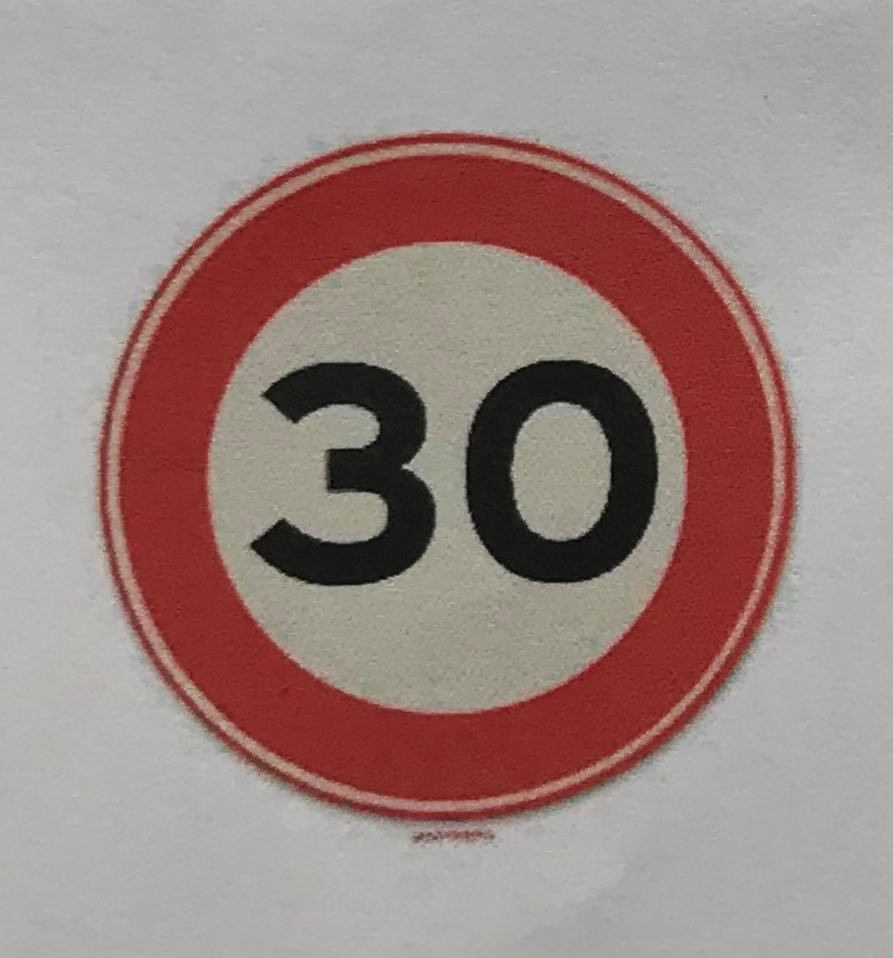30-limit: (79, 124, 804, 845)
